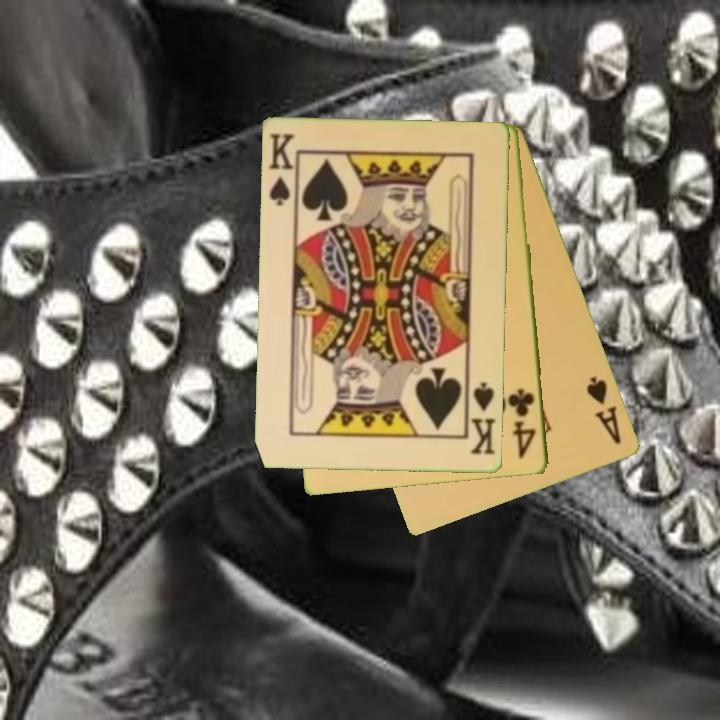4c: (506, 386, 539, 461)
As: (583, 373, 625, 447)
Ks: (464, 379, 499, 458), (266, 130, 300, 211)
